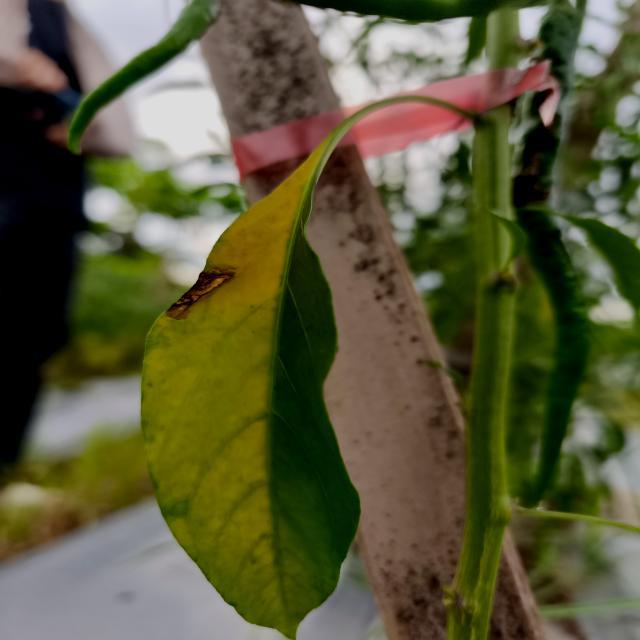Virus Kuning: (139, 165, 363, 638)
